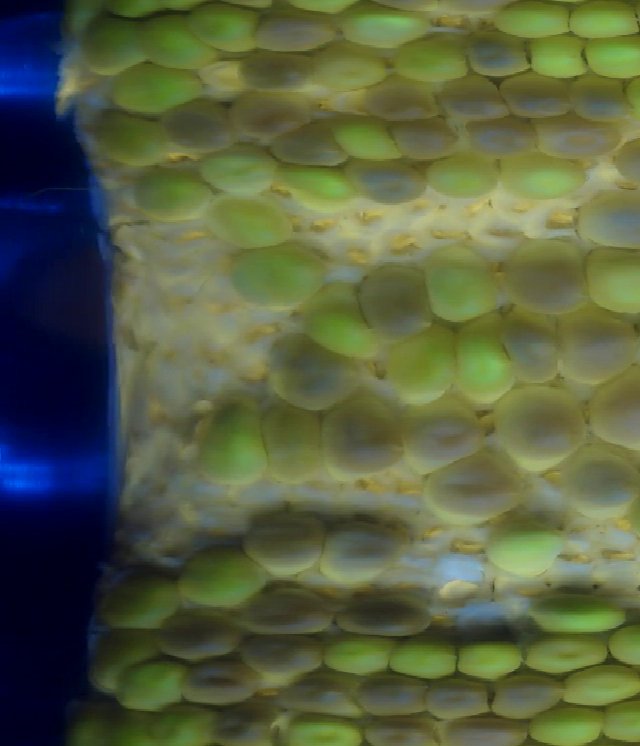fluorescent: (224, 240, 331, 320), (448, 306, 525, 415), (375, 319, 466, 409), (189, 396, 274, 491), (415, 241, 507, 327), (172, 538, 276, 613), (79, 623, 180, 700), (291, 280, 382, 365), (91, 563, 187, 640), (254, 396, 329, 489), (202, 190, 302, 257), (84, 104, 177, 174), (522, 588, 638, 644), (102, 61, 212, 119), (478, 516, 568, 586), (124, 163, 218, 230), (131, 6, 224, 73), (73, 8, 159, 79), (494, 144, 595, 204), (332, 1, 442, 56), (320, 109, 415, 169), (297, 38, 393, 96), (263, 159, 365, 213), (111, 654, 197, 716), (384, 29, 476, 86), (517, 627, 615, 680), (195, 141, 283, 200), (136, 697, 241, 746), (550, 657, 640, 713), (182, 1, 265, 60), (417, 151, 506, 206), (579, 239, 640, 319), (381, 632, 470, 685), (446, 629, 531, 683), (320, 628, 402, 680), (521, 700, 609, 746), (520, 29, 593, 84), (277, 707, 374, 746), (486, 1, 576, 43), (576, 30, 640, 84), (561, 1, 640, 42), (97, 701, 163, 746), (53, 703, 117, 746), (591, 691, 640, 746), (603, 617, 640, 672)
nonfluorescent: (482, 379, 594, 476), (416, 443, 535, 533), (261, 322, 370, 415), (495, 233, 601, 319), (315, 391, 413, 484), (395, 393, 496, 480), (551, 302, 640, 393), (350, 260, 440, 348), (310, 513, 409, 589), (493, 304, 571, 397), (233, 508, 334, 579), (554, 444, 640, 523), (236, 584, 344, 642), (145, 605, 245, 667), (330, 591, 442, 646), (238, 4, 345, 59), (229, 627, 329, 685), (582, 363, 640, 459), (274, 667, 369, 724), (525, 109, 624, 163), (428, 66, 514, 128), (346, 665, 435, 723), (222, 89, 314, 145), (339, 154, 432, 209), (571, 184, 640, 258), (479, 670, 569, 726), (263, 120, 352, 176), (457, 27, 538, 87), (358, 74, 446, 128), (176, 658, 267, 710), (415, 668, 498, 724), (492, 67, 575, 122), (563, 69, 638, 129), (382, 111, 464, 165), (461, 110, 545, 162), (231, 45, 317, 95), (202, 695, 284, 746), (431, 712, 537, 746), (356, 711, 446, 746), (605, 126, 640, 196)
